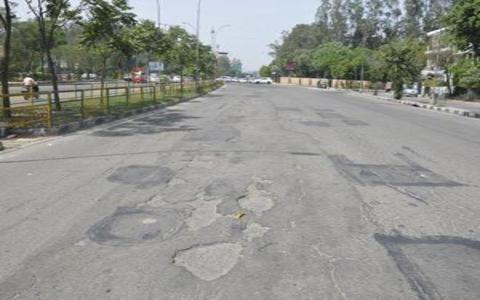patchy roads: (129, 155, 283, 296)
